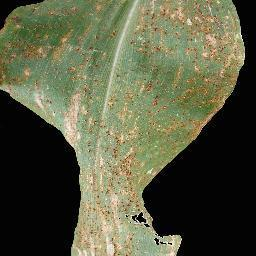Corn_Common_Rust: (0, 0, 247, 101), (20, 101, 229, 158), (68, 159, 184, 256)
